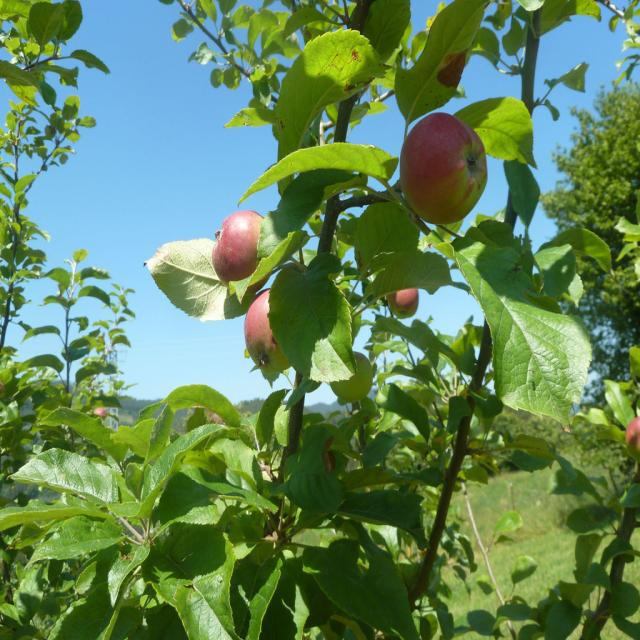Peach: (397, 110, 487, 224), (243, 287, 294, 373), (212, 206, 265, 284), (388, 288, 420, 322), (627, 418, 640, 452)
